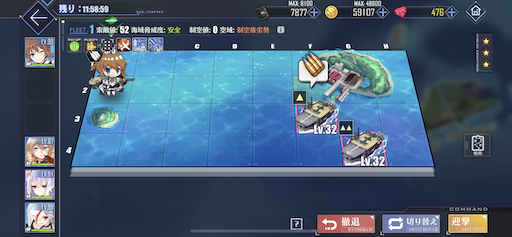lv1: (291, 89, 337, 133)
lv2: (337, 117, 394, 164)
